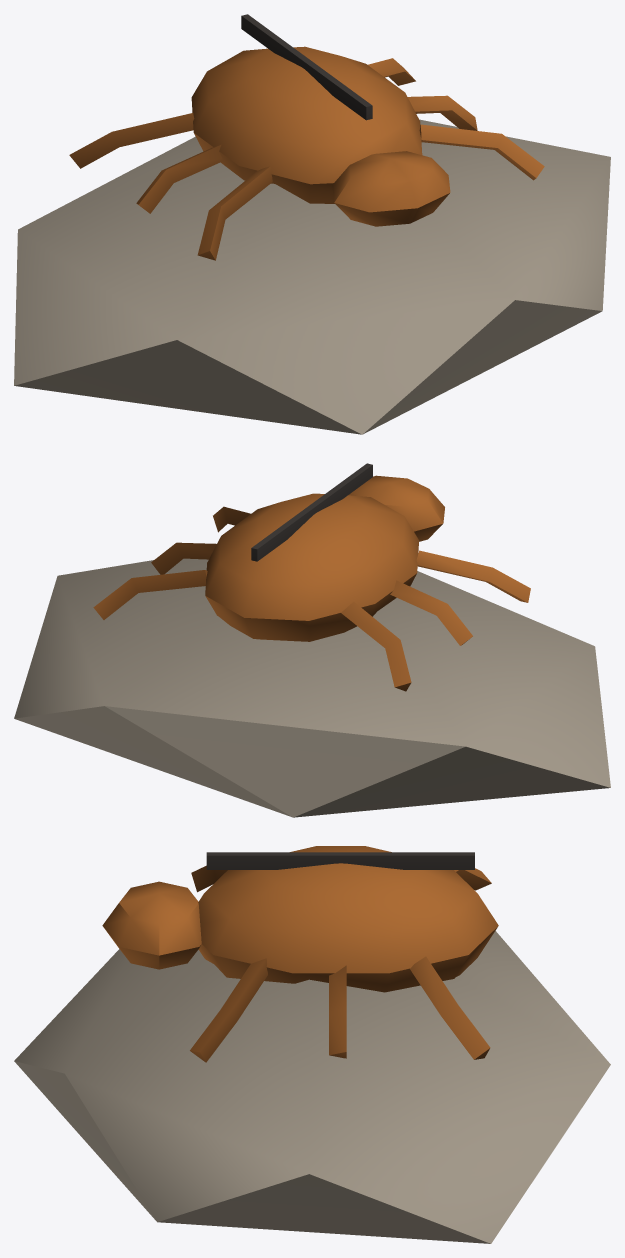
File: curio_fossilBeetle.glb
3 renders of one model, top to bottom at view 1: azimuth 30°, elevation 25°; view 2: azimuth 150°, elevation 25°; view 3: azimuth 270°, elevation 25°, orthographic. The views are drawn at different scales.
Visible parts, largest first — view 1: curio_fossilBeetle; view 2: curio_fossilBeetle; view 3: curio_fossilBeetle.
Part boxes in pixels (<box>): curio_fossilBeetle: <box>14,14,610,434</box>; curio_fossilBeetle: <box>14,463,610,817</box>; curio_fossilBeetle: <box>14,846,610,1243</box>.
Bounding box in the file's own units: 0.0939 × 0.036 × 0.0756.
